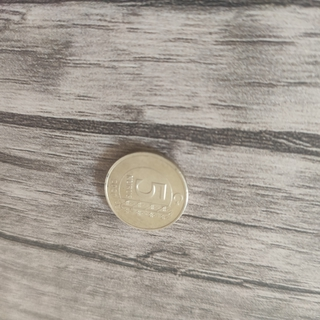5KURUS: (102, 149, 189, 233)
